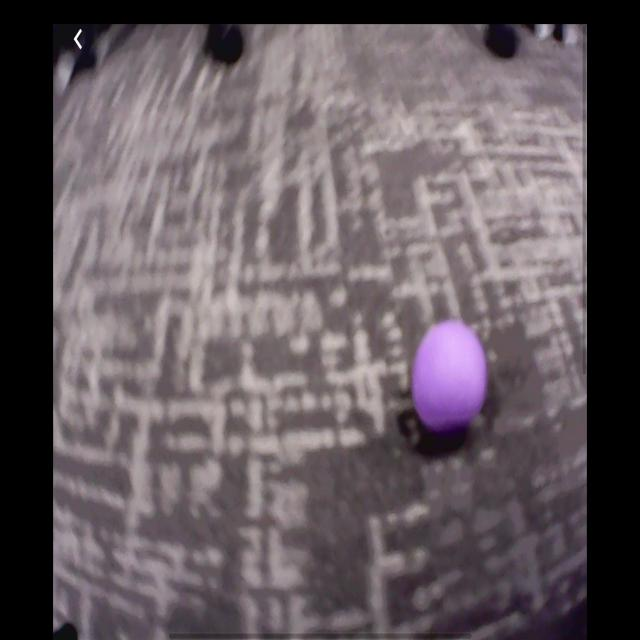ball: (412, 319, 486, 437)
